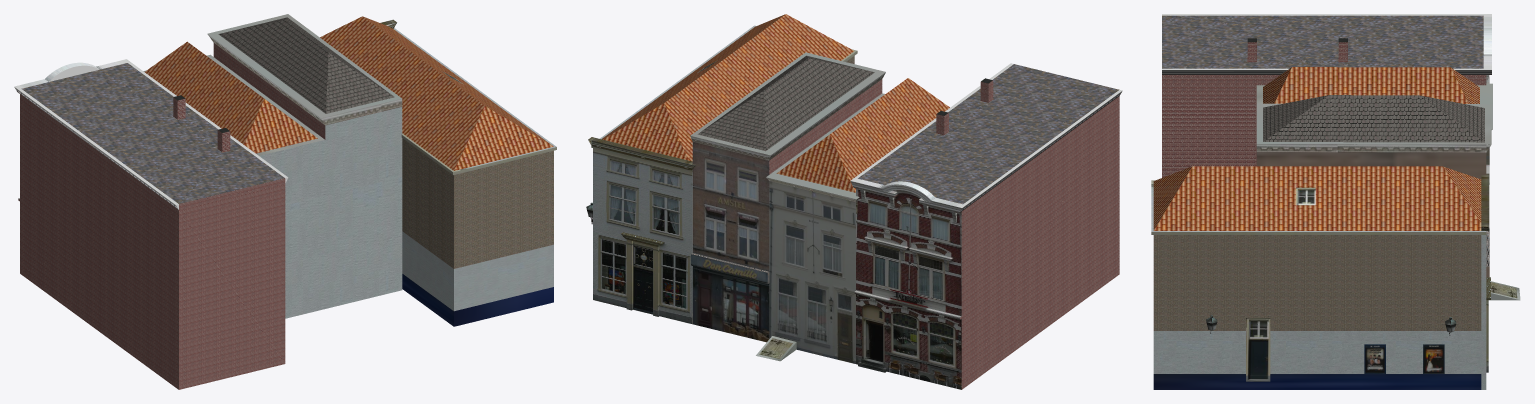
File: OtherBat.fbx
3 views of the same model, side by side, from view 1: azimuth 30°, elevation 25°; view 2: azimuth 150°, elevation 25°; view 3: azimuth 270°, elevation 25° (orthographic). The views are drawn at different scales.
Parts seen in each view (by area): view 1: group_2, group_4.005, group_2.008, group_6, group_6.006, group_4.004, group_4.001, group_6.002, group_6.005, group_2.003, group_4.006, group_4.007 (+3 smaller); view 2: group_2, group_2.003, group_2.008, group_4.002, group_4, group_6.004, group_6.006, group_4.004, group_4.001, group_4.006, group_4.007, group_6.016 (+5 smaller); view 3: group_6, group_6.006, group_2.008, group_4.001, group_2, group_6.012, group_4.004, group_4, group_6.005, group_6.002, group_2.003, group_6.011 (+7 smaller).
Boxes of the visible parts, left/top/right/bottom form: group_2: left=20, top=94, right=285, bottom=389; group_4.005: left=259, top=107, right=402, bottom=318; group_2.008: left=21, top=63, right=284, bottom=203; group_6: left=402, top=138, right=553, bottom=268; group_6.006: left=320, top=16, right=553, bottom=170; group_4.004: left=145, top=41, right=317, bottom=153; group_4.001: left=218, top=17, right=394, bottom=113; group_6.002: left=402, top=231, right=553, bottom=311; group_6.005: left=402, top=274, right=553, bottom=326; group_2.003: left=14, top=59, right=287, bottom=209; group_4.006: left=207, top=14, right=401, bottom=118; group_4.007: left=213, top=43, right=325, bottom=139; group_2: left=961, top=96, right=1119, bottom=389; group_2.003: left=850, top=63, right=1122, bottom=389; group_2.008: left=858, top=64, right=1119, bottom=204; group_4.002: left=756, top=93, right=948, bottom=363; group_4: left=690, top=72, right=885, bottom=342; group_6.004: left=593, top=146, right=692, bottom=323; group_6.006: left=602, top=14, right=853, bottom=161; group_4.004: left=776, top=78, right=949, bottom=192; group_4.001: left=697, top=55, right=874, bottom=150; group_4.006: left=690, top=52, right=885, bottom=155; group_4.007: left=769, top=79, right=882, bottom=174; group_6.016: left=633, top=241, right=652, bottom=314; group_6: left=1153, top=235, right=1481, bottom=330; group_6.006: left=1153, top=166, right=1481, bottom=230; group_2.008: left=1162, top=15, right=1483, bottom=68; group_4.001: left=1263, top=95, right=1484, bottom=142; group_2: left=1162, top=58, right=1486, bottom=177; group_6.012: left=1270, top=235, right=1486, bottom=389; group_4.004: left=1263, top=67, right=1479, bottom=103; group_4: left=1256, top=144, right=1490, bottom=277; group_6.005: left=1153, top=374, right=1481, bottom=389; group_6.002: left=1153, top=331, right=1245, bottom=373; group_2.003: left=1162, top=14, right=1491, bottom=182; group_6.011: left=1246, top=318, right=1270, bottom=381.
Size of the model in its own units: 5320 by 2809 by 4168.
